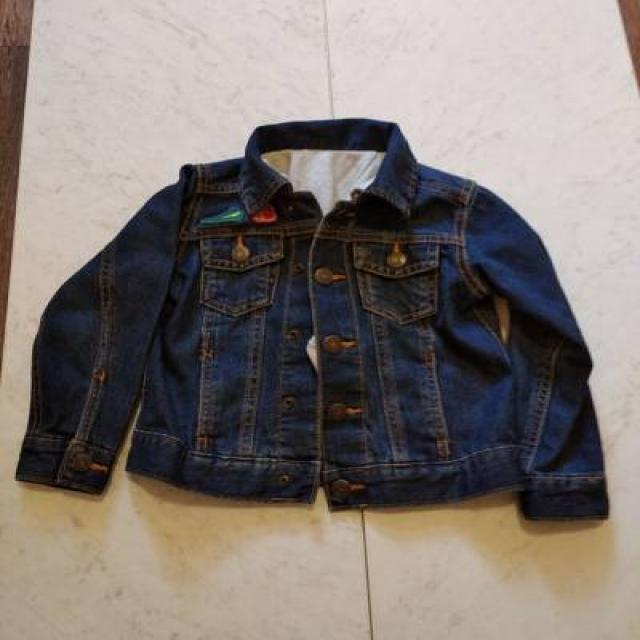Clothes -Biodegradable-: (15, 116, 612, 515)
